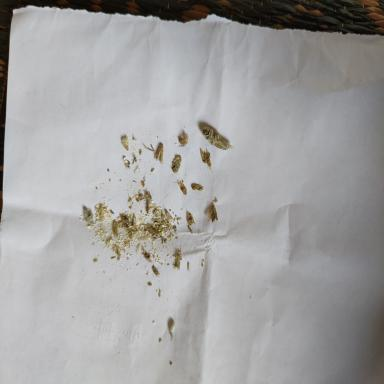pbw: (199, 147, 213, 171), (154, 143, 164, 164), (207, 205, 218, 223), (186, 210, 195, 226), (164, 208, 174, 221), (178, 181, 187, 195), (151, 264, 160, 276), (121, 137, 128, 151), (192, 184, 203, 192), (145, 197, 150, 213), (144, 190, 151, 199), (124, 162, 130, 168)
